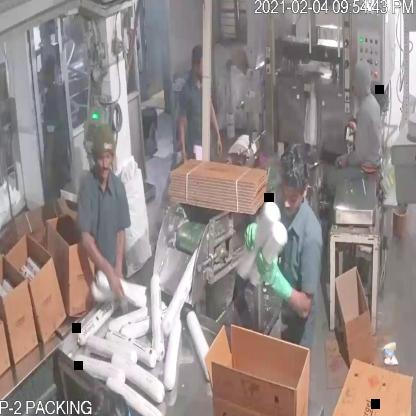glove: (251, 243, 293, 304), (242, 213, 268, 258)
no_glove: (76, 212, 123, 312), (102, 214, 133, 308), (206, 83, 223, 163), (332, 141, 359, 180), (174, 110, 188, 168)
